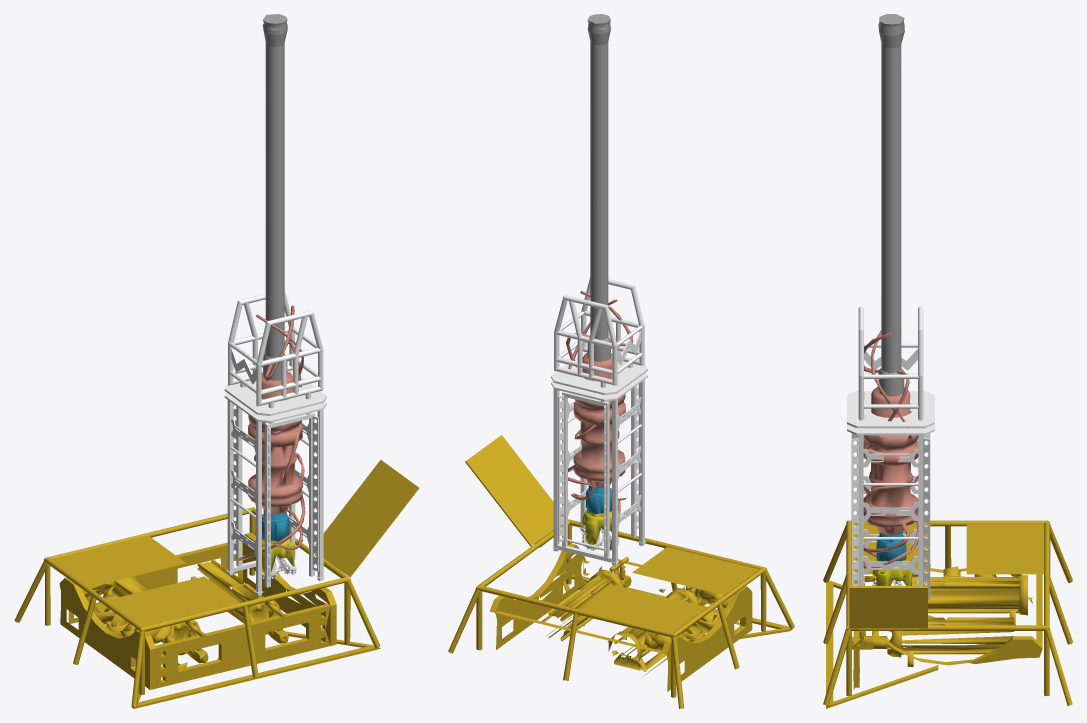
File: well_rig.glb
3 renders of one model, left to right at view 1: azimuth 30°, elevation 25°; view 2: azimuth 150°, elevation 25°; view 3: azimuth 270°, elevation 25°, orthographic. The views are drawn at different scales.
Visible parts, largest first — view 1: SM_MERGED_StaticMeshActor_188; view 2: SM_MERGED_StaticMeshActor_188; view 3: SM_MERGED_StaticMeshActor_188.
Boxes of the visible parts, <box> form: SM_MERGED_StaticMeshActor_188: <box>14,14,419,708</box>; SM_MERGED_StaticMeshActor_188: <box>448,14,794,708</box>; SM_MERGED_StaticMeshActor_188: <box>823,14,1072,708</box>.
Bounding box in the file's own units: 7.28 × 14.56 × 5.05.
Materials: 6 (3 with a texture image).
